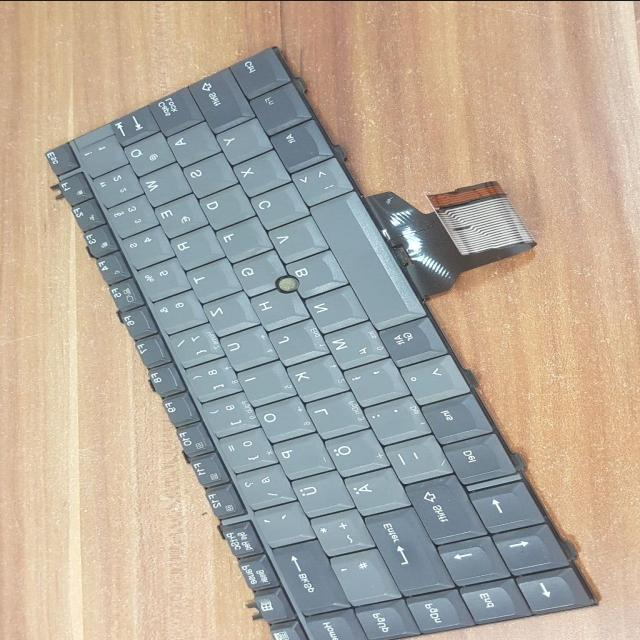0: (212, 425, 269, 471)
1: (73, 132, 121, 176)
2: (88, 163, 137, 206)
3: (101, 193, 151, 236)
4: (116, 225, 167, 268)
5: (131, 256, 184, 300)
6: (146, 288, 200, 334)
7: (164, 322, 217, 368)
8: (180, 356, 236, 401)
9: (195, 389, 252, 435)
a: (164, 120, 214, 164)
accent: (247, 499, 306, 545)
ae: (342, 464, 402, 514)
alt-left: (268, 118, 327, 168)
altgr-right: (375, 314, 440, 364)
b: (282, 248, 342, 296)
c: (248, 181, 304, 227)
caret: (401, 353, 466, 403)
comma: (341, 356, 401, 404)
d: (197, 182, 250, 228)
del: (267, 537, 342, 615)
e: (152, 192, 203, 236)
enter: (364, 505, 446, 593)
f: (214, 215, 265, 261)
g: (232, 247, 280, 294)
h: (247, 286, 301, 328)
hash: (326, 546, 394, 603)
i: (234, 358, 287, 404)
j: (265, 316, 320, 364)
k: (284, 352, 340, 400)
keyboard: (33, 40, 610, 640)
l: (302, 389, 362, 437)
less: (288, 156, 348, 204)
m: (321, 319, 380, 368)
minus: (382, 431, 442, 481)
n: (303, 283, 359, 331)
o: (251, 393, 305, 439)
oe: (322, 426, 382, 474)
p: (270, 430, 327, 477)
plus: (306, 506, 366, 554)
point: (361, 393, 421, 443)
q: (121, 130, 171, 174)
r: (168, 223, 218, 269)
s: (180, 151, 232, 196)
shift-left: (185, 65, 248, 131)
shift-lock: (148, 83, 199, 133)
shift-right: (404, 472, 478, 542)
space: (305, 189, 420, 329)
ss: (229, 461, 289, 507)
strg-left: (228, 44, 286, 96)
t: (185, 256, 235, 301)
tab: (109, 104, 155, 144)
u: (217, 324, 270, 370)
ue: (288, 467, 347, 514)
v: (265, 214, 320, 262)
w: (137, 162, 185, 204)
x: (232, 148, 284, 194)
y: (215, 116, 265, 163)
z: (200, 289, 250, 335)
